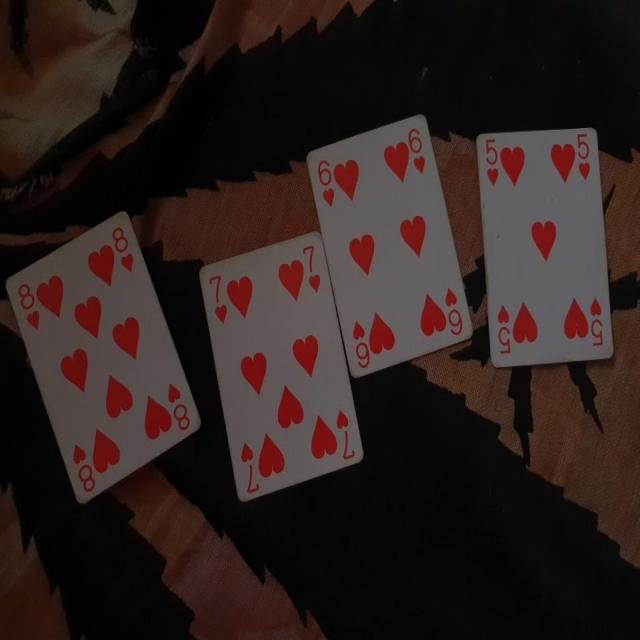5 Hearts: (469, 113, 616, 371)
6 Hearts: (308, 109, 477, 386)
7 Hearts: (193, 224, 368, 508)
8 Hearts: (1, 207, 210, 513)
